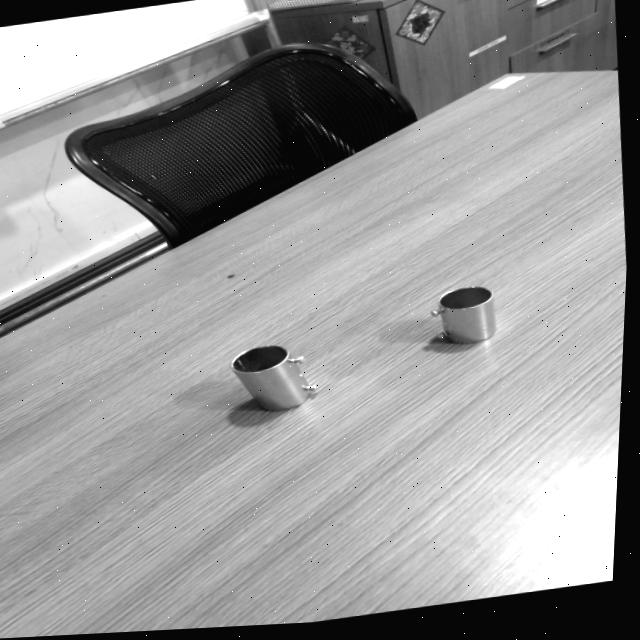Co_Lon: (227, 326, 324, 425)
Co_Nho: (430, 284, 497, 346)
